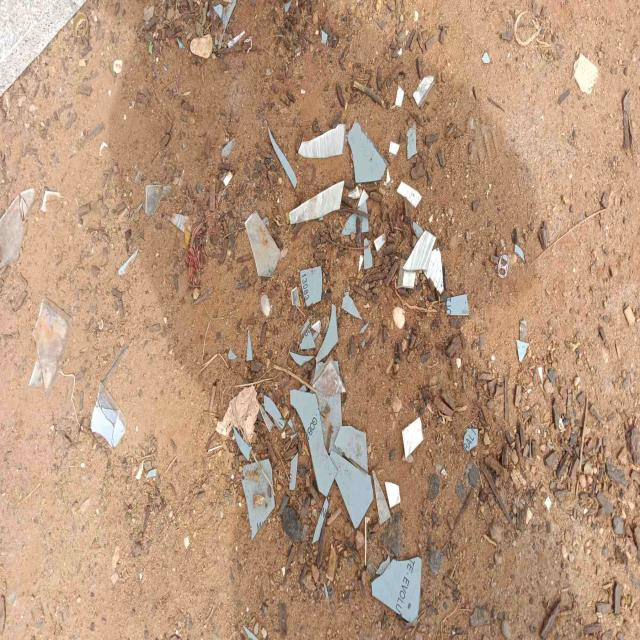glass: (290, 374, 374, 527), (372, 557, 422, 622), (402, 230, 443, 291), (245, 210, 281, 276), (290, 179, 344, 222), (349, 120, 386, 180), (411, 232, 442, 283), (316, 303, 339, 360), (310, 123, 345, 155), (403, 418, 423, 457), (301, 268, 322, 305), (414, 75, 435, 104), (397, 181, 421, 206), (359, 188, 369, 232), (448, 296, 468, 314), (342, 212, 359, 233), (407, 125, 417, 157), (364, 240, 373, 269), (290, 207, 301, 222), (261, 468, 271, 484)
